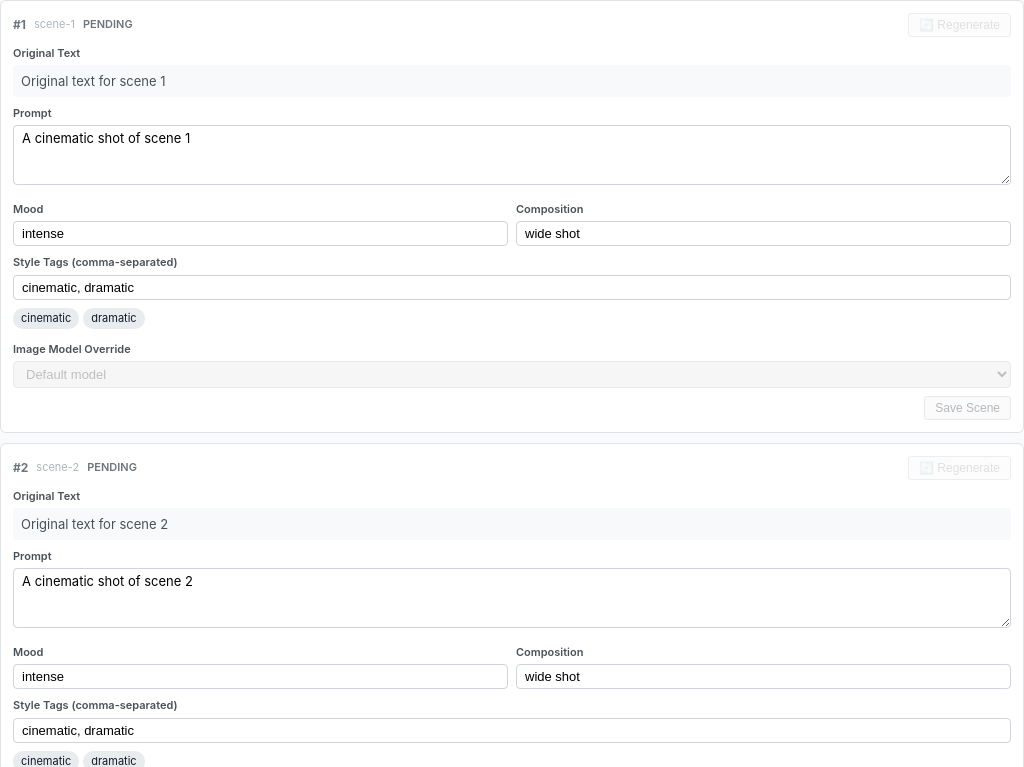
Test: VisualPlanEditor › shows error when save fails
The image size is (1024, 767).
Expected: the element with test id "scene-scene-1" is shown, [0,0,1023,433]
Replace the text in the text box with test id "scene-scene-1-prompt" with "Changed" at (512, 155), box [13,125,1011,185]
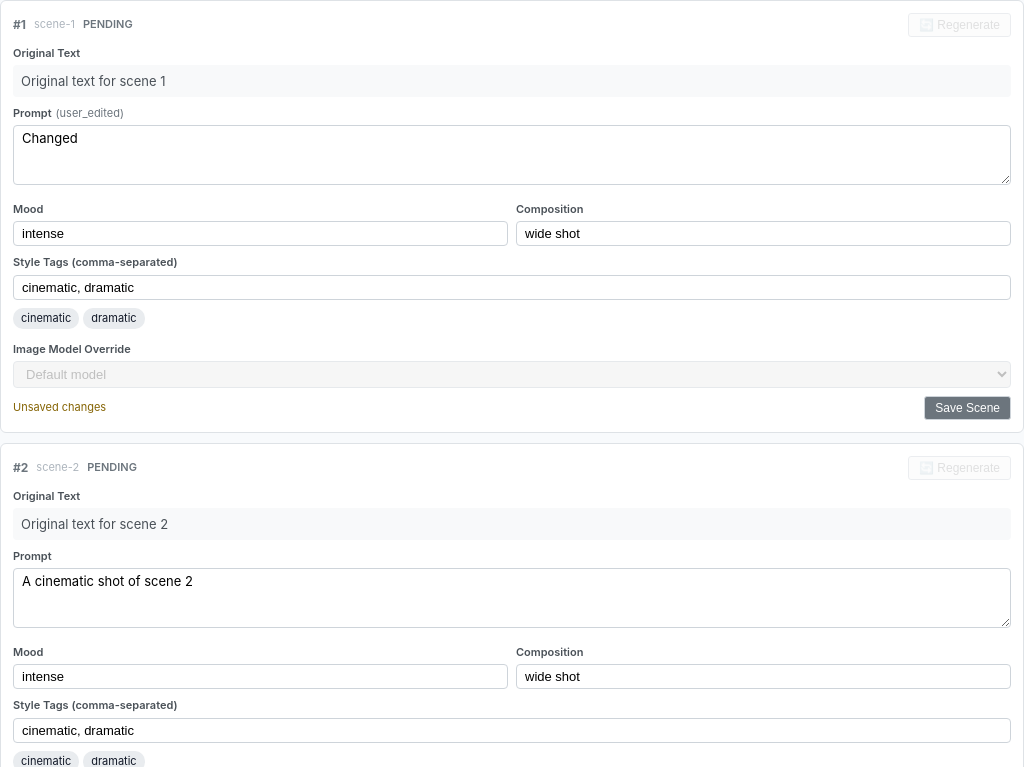
Click the button with test id "scene-scene-1-save" at (968, 408), box [924,396,1011,420]
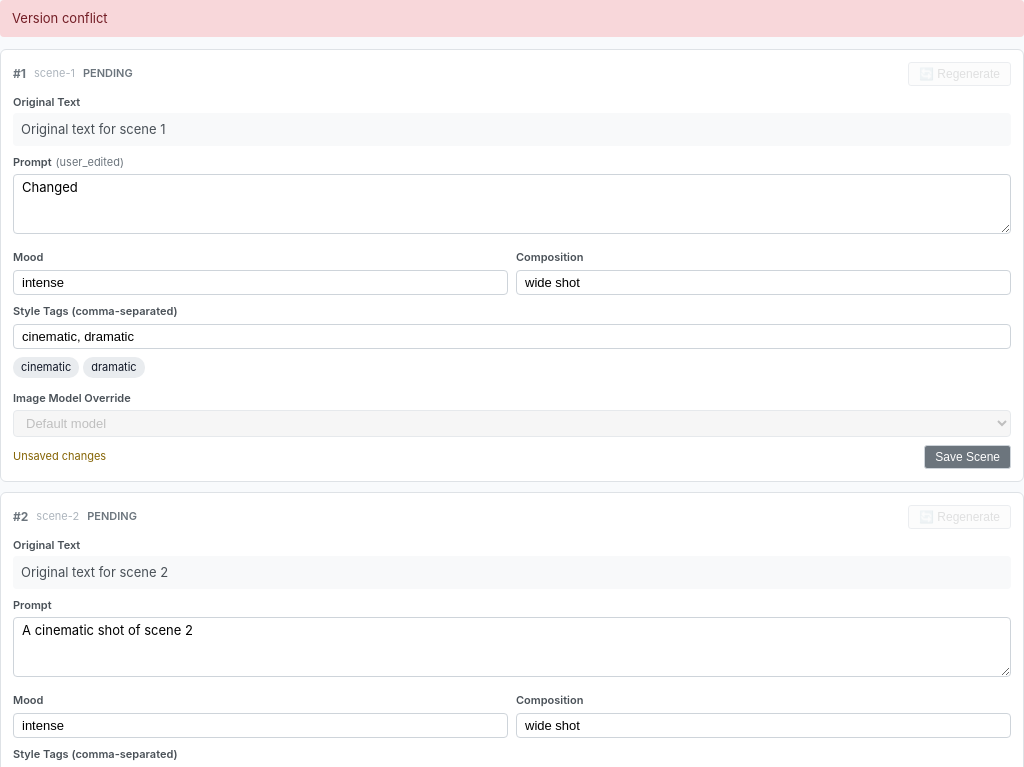
Result: the message with test id "visual-plan-error" reads "Version conflict" at [12,10,108,26]
